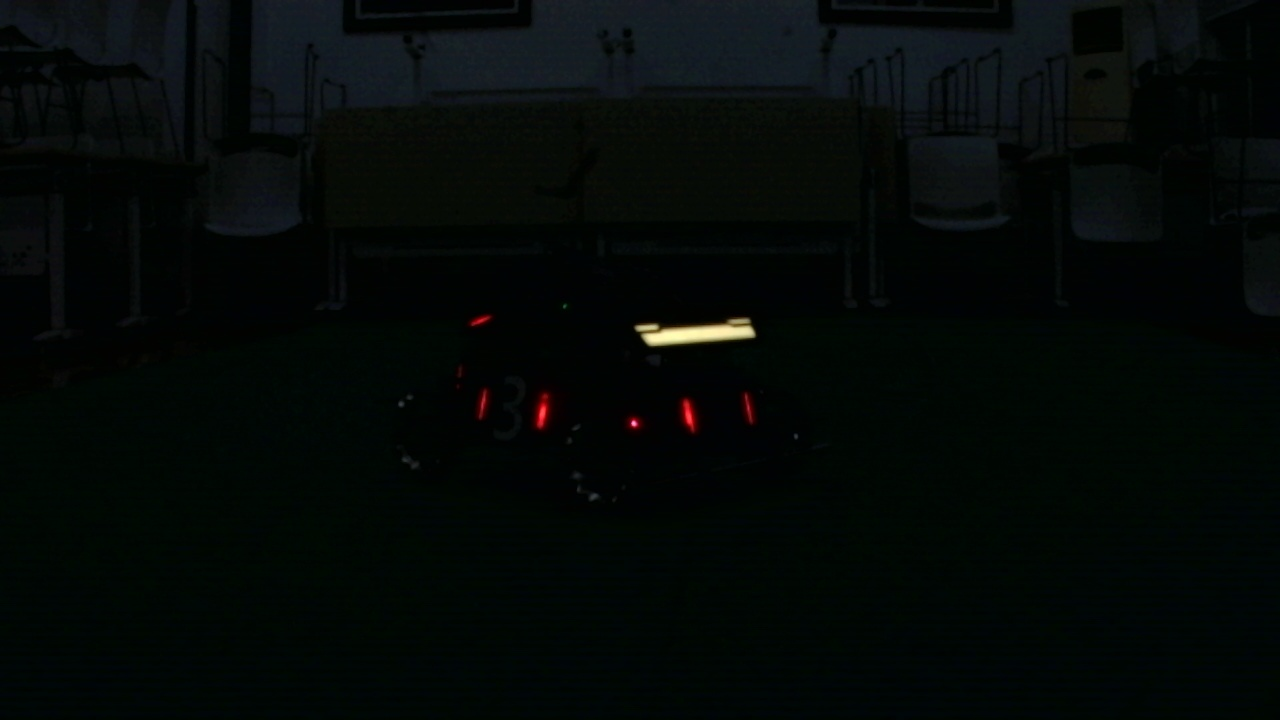lamp: (475, 381, 488, 432), (536, 388, 548, 431), (680, 397, 694, 431), (742, 387, 752, 424)
pair1: (477, 393, 548, 430), (680, 397, 756, 425)
